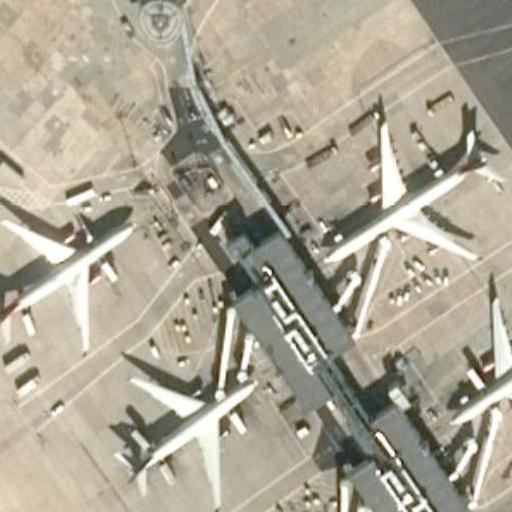Aircraft: (307, 116, 502, 268), (109, 364, 261, 512), (0, 204, 130, 344), (437, 287, 512, 440)
